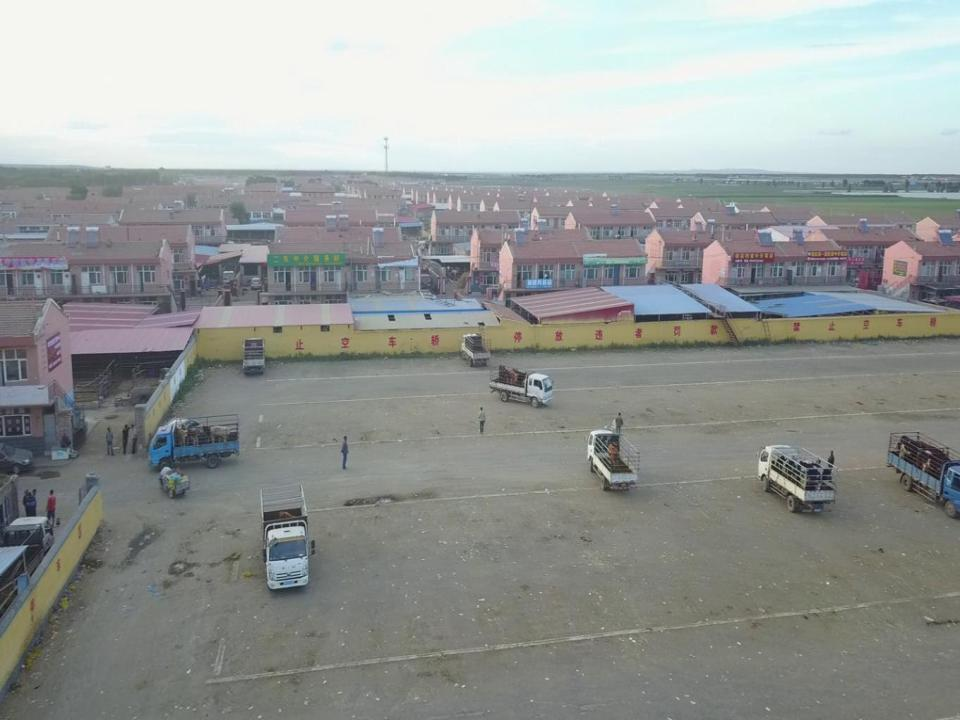car: (0, 441, 37, 474)
truck: (751, 438, 842, 518), (882, 426, 960, 518), (256, 484, 318, 593), (146, 411, 240, 471), (583, 426, 644, 493), (489, 364, 554, 410), (456, 331, 496, 368), (243, 336, 266, 378)
